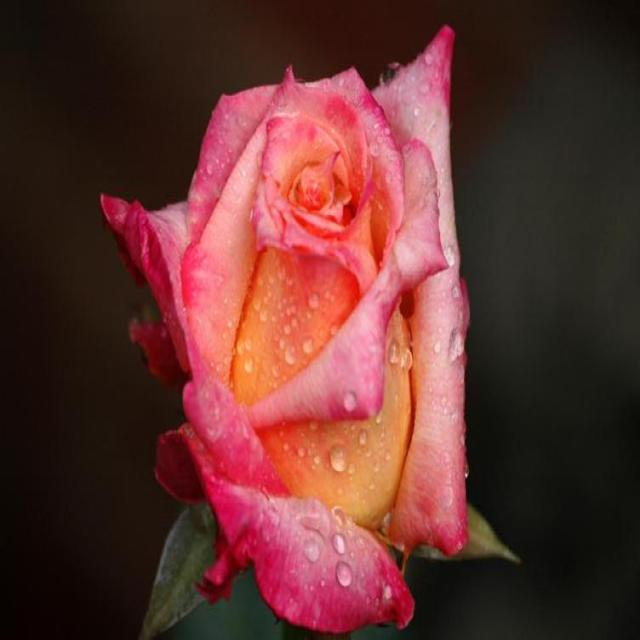rose: (81, 24, 522, 622)
